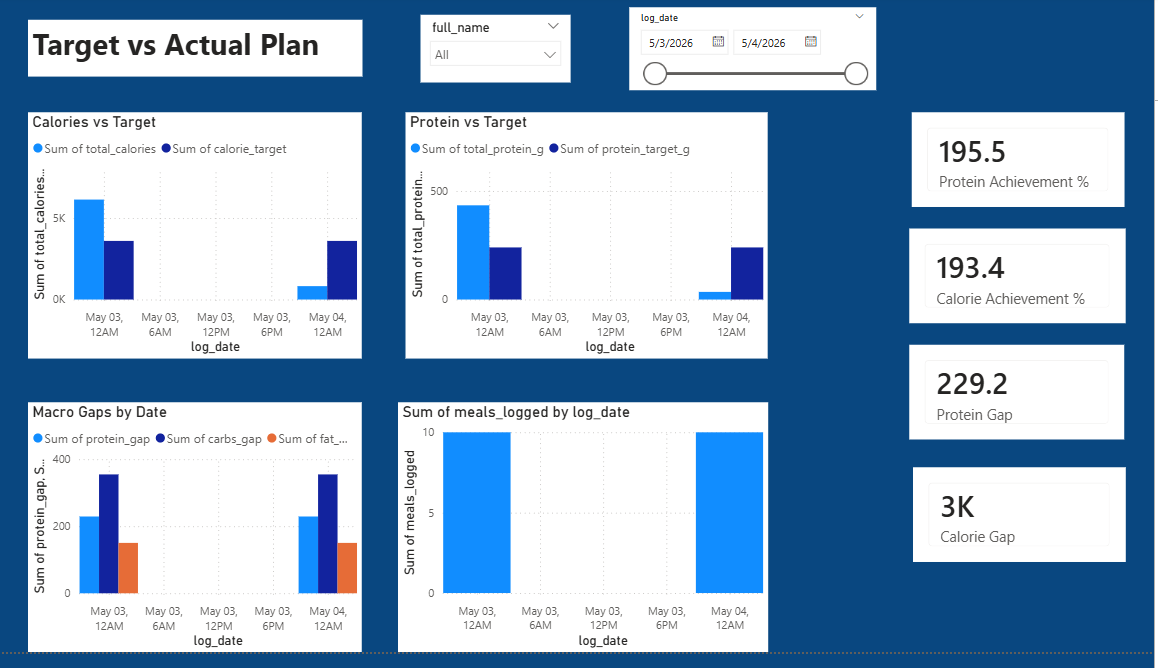

What the dashboard file says about the page in this screenshot:
{"tool":"powerbi","page":{"name":"Target vs Actual","canvas":[1280,720],"ordinal":1},"visuals":[{"type":"cardVisual","fields":{"Data":["Sum(mart vw_target_vs_actual.calorie_gap)"]},"box":[1015.4,517.3,233.3,104.3],"z":0},{"type":"cardVisual","fields":{"Data":["Sum(mart vw_target_vs_actual.protein_gap)"]},"box":[1011.3,382.8,236,104.3],"z":1000},{"type":"cardVisual","fields":{"Data":["Avg(mart vw_target_vs_actual.calorie_target_achievement_pct)"]},"box":[1011.3,255.2,237.4,104.3],"z":2000},{"type":"cardVisual","fields":{"Data":["Avg(mart vw_target_vs_actual.protein_target_achievement_pct)"]},"box":[1014.1,127.6,233.3,104.3],"z":3000},{"type":"lineClusteredColumnComboChart","title":"Calories vs Target","fields":{"Category":["mart vw_daily_nutrition_summary.log_date"],"Y":["Sum(mart vw_daily_nutrition_summary.total_calories)","Sum(mart vw_target_vs_actual.calorie_target)"]},"box":[43.9,127.6,366.4,270.3],"z":4000},{"type":"lineClusteredColumnComboChart","title":"Protein vs Target","fields":{"Category":["mart vw_daily_nutrition_summary.log_date"],"Y":["Sum(mart vw_daily_nutrition_summary.total_protein_g)","Sum(mart vw_target_vs_actual.protein_target_g)"]},"box":[458.3,127.6,397.9,270.3],"z":5000},{"type":"clusteredColumnChart","title":"Macro Gaps by Date","fields":{"Category":["mart vw_daily_nutrition_summary.log_date"],"Y":["Sum(mart vw_target_vs_actual.protein_gap)","Sum(mart vw_target_vs_actual.carbs_gap)","Sum(mart vw_target_vs_actual.fat_gap)"]},"box":[43.9,446,366.4,274.4],"z":6000},{"type":"clusteredColumnChart","fields":{"Category":["mart vw_daily_nutrition_summary.log_date"],"Y":["Sum(mart vw_target_vs_actual.meals_logged)"]},"box":[450.1,446,406.2,274.4],"z":7000},{"type":"slicer","fields":{"Values":["mart vw_daily_nutrition_summary.log_date"]},"box":[703.9,12.3,270.3,90.6],"z":8000},{"type":"slicer","fields":{"Values":["mart vw_daily_nutrition_summary.full_name"]},"box":[474.8,20.6,164.7,74.1],"z":9000},{"type":"textbox","box":[43.9,26.7,367.1,62.7],"z":10000}]}

Visuals, with their boxes in screenshot pixels (x1, y1, x2, y2), scaled from the page's 1280x720 canvas onto the 1158x668 screenshot:
cardVisual - Sum(mart vw_target_vs_actual.calorie_gap): crop(919, 480, 1130, 577)
cardVisual - Sum(mart vw_target_vs_actual.protein_gap): crop(915, 355, 1128, 452)
cardVisual - Avg(mart vw_target_vs_actual.calorie_target_achievement_pct): crop(915, 237, 1130, 334)
cardVisual - Avg(mart vw_target_vs_actual.protein_target_achievement_pct): crop(917, 118, 1129, 215)
"Calories vs Target" lineClusteredColumnComboChart: crop(40, 118, 371, 369)
"Protein vs Target" lineClusteredColumnComboChart: crop(415, 118, 775, 369)
"Macro Gaps by Date" clusteredColumnChart: crop(40, 414, 371, 667)
clusteredColumnChart - mart vw_daily_nutrition_summary.log_date x Sum(mart vw_target_vs_actual.meals_logged): crop(407, 414, 775, 667)
slicer - mart vw_daily_nutrition_summary.log_date: crop(637, 11, 881, 95)
slicer - mart vw_daily_nutrition_summary.full_name: crop(430, 19, 579, 88)
textbox: crop(40, 25, 372, 83)
